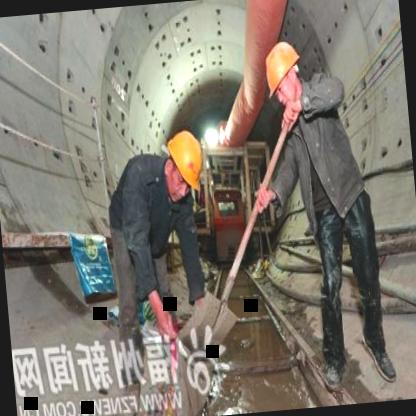helmet: (157, 123, 211, 206), (258, 36, 311, 115)
